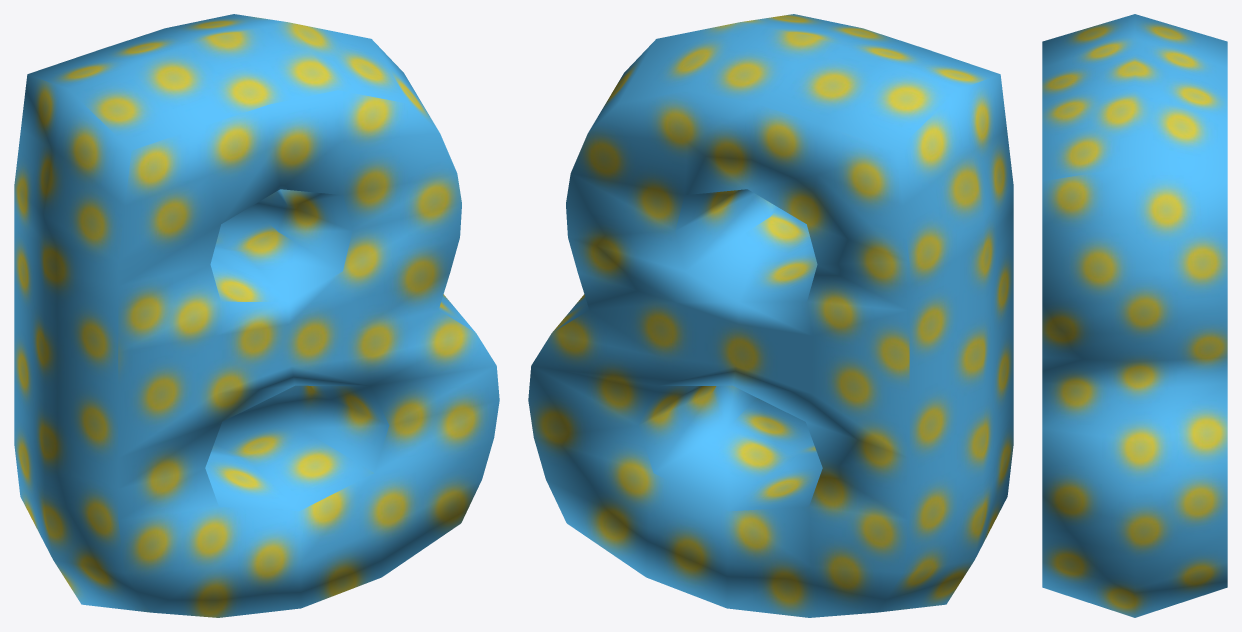
Rendered from B_edit.fbx.
3 renders of one model, left to right at view 1: azimuth 30°, elevation 25°; view 2: azimuth 150°, elevation 25°; view 3: azimuth 270°, elevation 25°, orthographic. The views are drawn at different scales.
Parts seen in each view (by area): view 1: B_mesh; view 2: B_mesh; view 3: B_mesh.
Boxes of the visible parts, x1=… form: B_mesh: x1=14, y1=14, x2=499, y2=617; B_mesh: x1=528, y1=14, x2=1013, y2=617; B_mesh: x1=1042, y1=14, x2=1227, y2=617.
Bounding box in the file's own units: 1.6 × 2.06 × 0.682.
